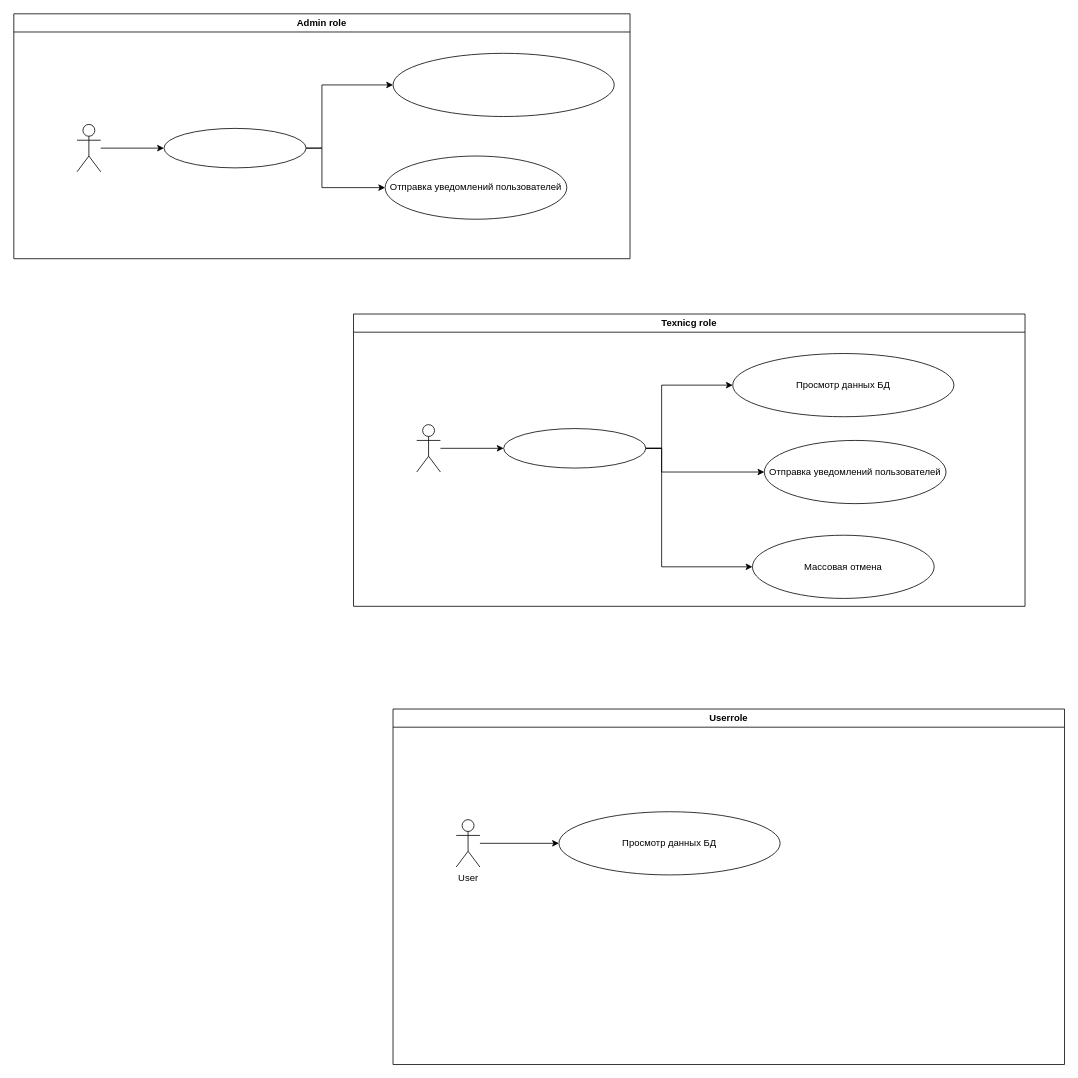
This 1078x1078 diagram has some shape labels left out. Here are the shapes that lost their labels. From the top down, the centre of each, then its label:
At (x=503, y=85): "Добавление/Изменение/Просмотр/Удаление данных в БД".
At (x=88, y=148): "Admin".
At (x=234, y=148): "Авторизация (Логин и пароль для админа)".
At (x=428, y=448): "Texnicg".
At (x=574, y=448): "Авторизация (Логин и пароль для техника)".
